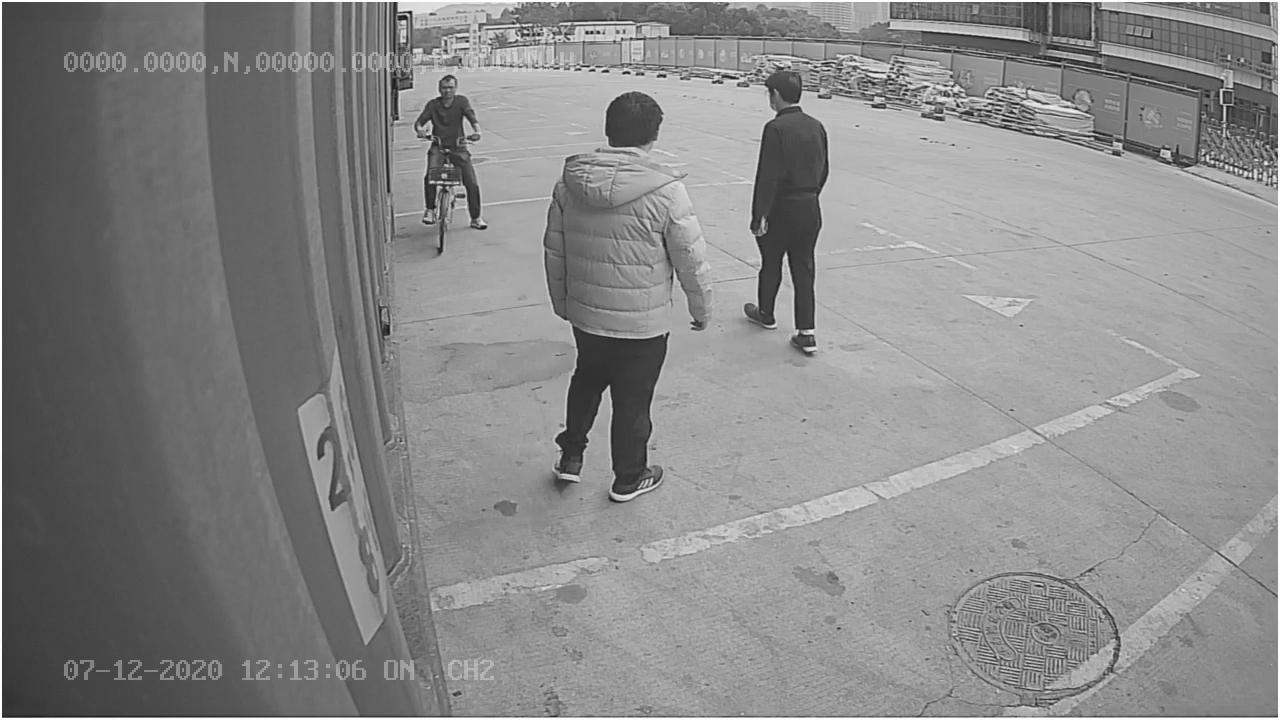person: (542, 78, 711, 496), (743, 64, 831, 362)
